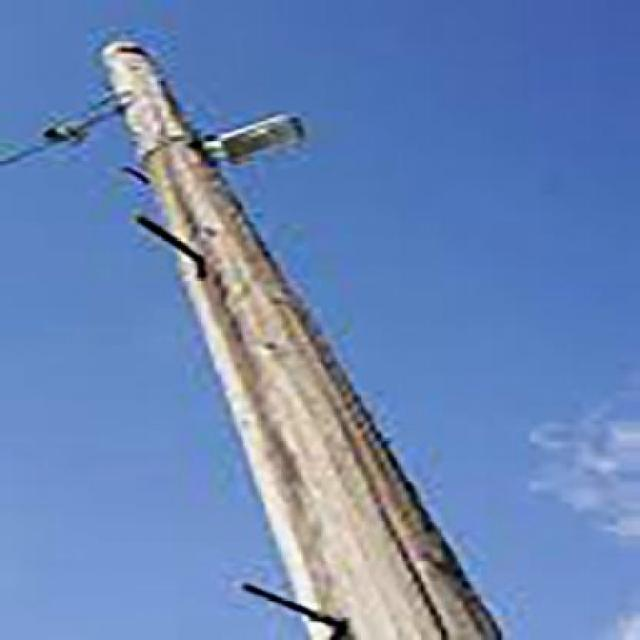pole: (100, 40, 503, 640)
wire: (0, 133, 58, 170)
